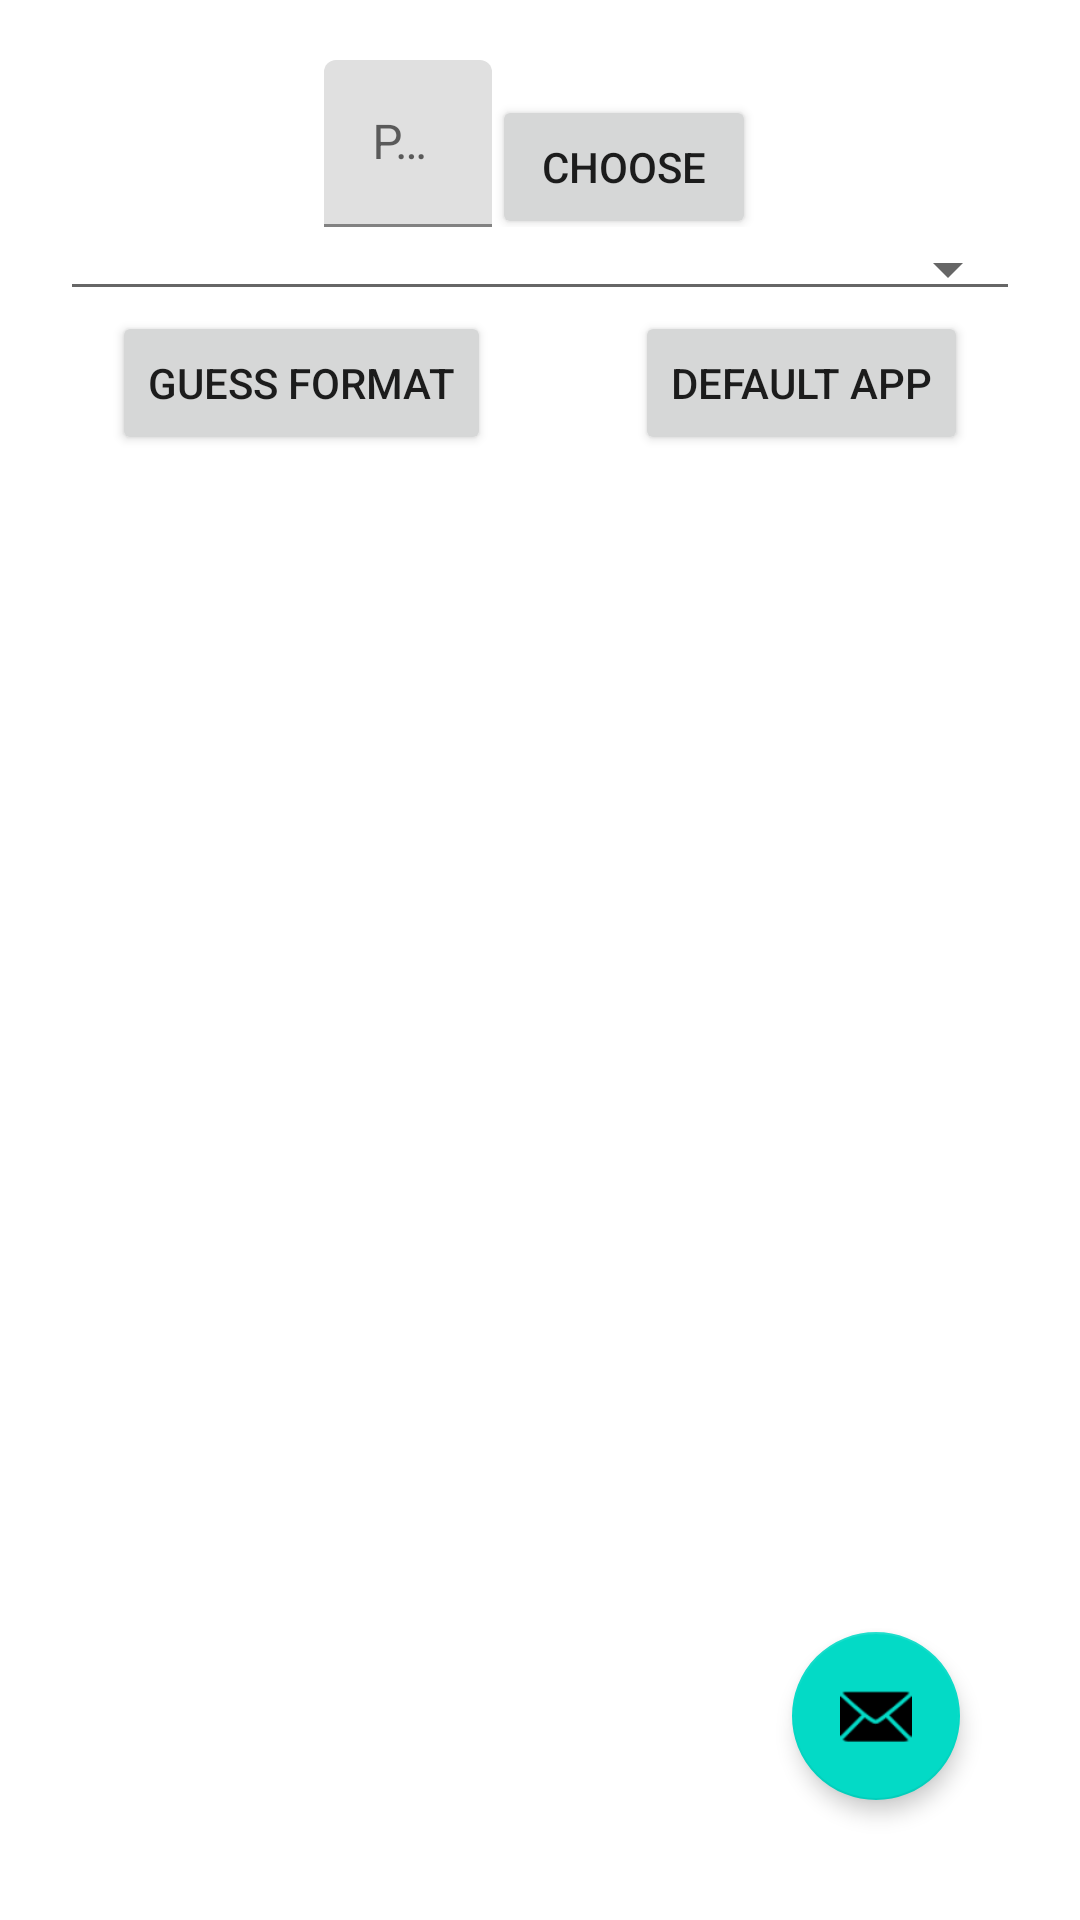

Screen size 1080 × 1920. Icon name, then its box in pixels as rect(x1, y1, x2, y2):
email: rect(792, 1632, 960, 1800)
